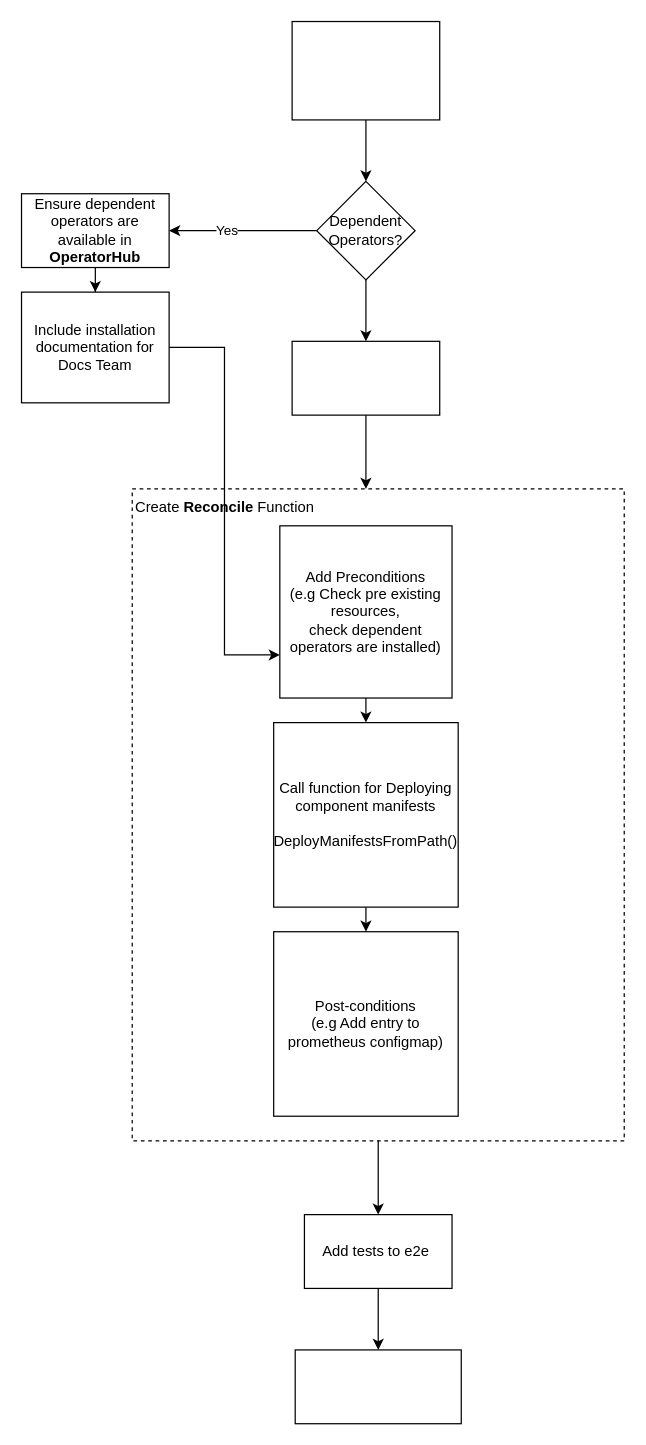
Image size: 646x1445. Some labels were removed from this diagram. Here are the shapes that lost their labels. From the top down, the box of each, then its label:
(291, 20, 440, 120): New Component Manifests
(291, 340, 440, 415): Add New Component in DSCSpec
(294, 1349, 461, 1424): Add component to get_all_manifests . sh
